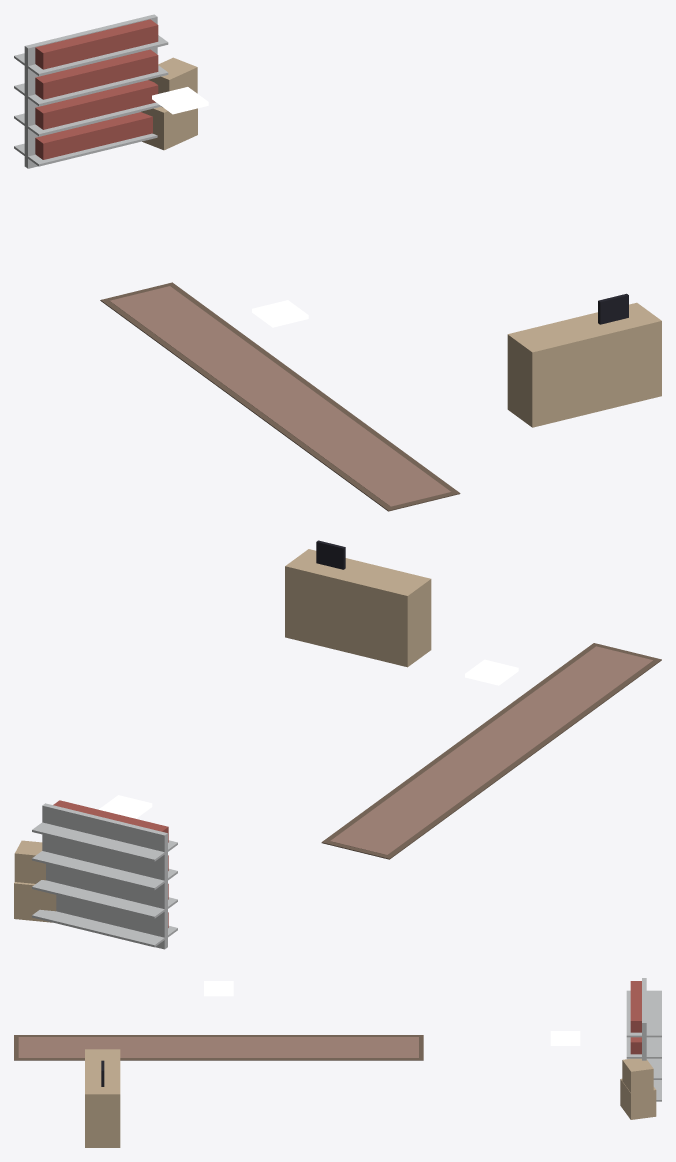
Rendered from fine-s0.glb.
3 renders of one model, top to bottom at view 1: azimuth 30°, elevation 25°; view 2: azimuth 150°, elevation 25°; view 3: azimuth 270°, elevation 25°, orthographic. The views are drawn at different scales.
Visible parts, largest first — view 1: soft-s0, shelving.000, shop-counter.000, cardboard-box.000, ceiling-lamp.000, ceiling-lamp.001; view 2: soft-s0, shelving.000, shop-counter.000, cardboard-box.000, ceiling-lamp.000, ceiling-lamp.001; view 3: soft-s0, shop-counter.000, shelving.000, cardboard-box.000, ceiling-lamp.000, ceiling-lamp.001.
Boxes of the visible parts, bbox=[...] form: soft-s0: bbox=[100, 282, 460, 511]; shelving.000: bbox=[14, 14, 168, 168]; shop-counter.000: bbox=[507, 293, 661, 427]; cardboard-box.000: bbox=[141, 57, 197, 150]; ceiling-lamp.000: bbox=[252, 300, 308, 327]; ceiling-lamp.001: bbox=[152, 87, 208, 114]; soft-s0: bbox=[321, 643, 661, 859]; shelving.000: bbox=[32, 800, 177, 949]; shop-counter.000: bbox=[285, 540, 431, 667]; cardboard-box.000: bbox=[14, 840, 56, 922]; ceiling-lamp.000: bbox=[465, 659, 518, 685]; ceiling-lamp.001: bbox=[99, 795, 152, 818]; soft-s0: bbox=[14, 1035, 423, 1060]; shop-counter.000: bbox=[85, 1049, 120, 1147]; shelving.000: bbox=[626, 978, 661, 1101]; cardboard-box.000: bbox=[620, 1058, 656, 1119]; ceiling-lamp.000: bbox=[204, 981, 233, 996]; ceiling-lamp.001: bbox=[550, 1031, 580, 1045].
Size of the model in its own units: 4.5 by 1.6 by 10.96.
